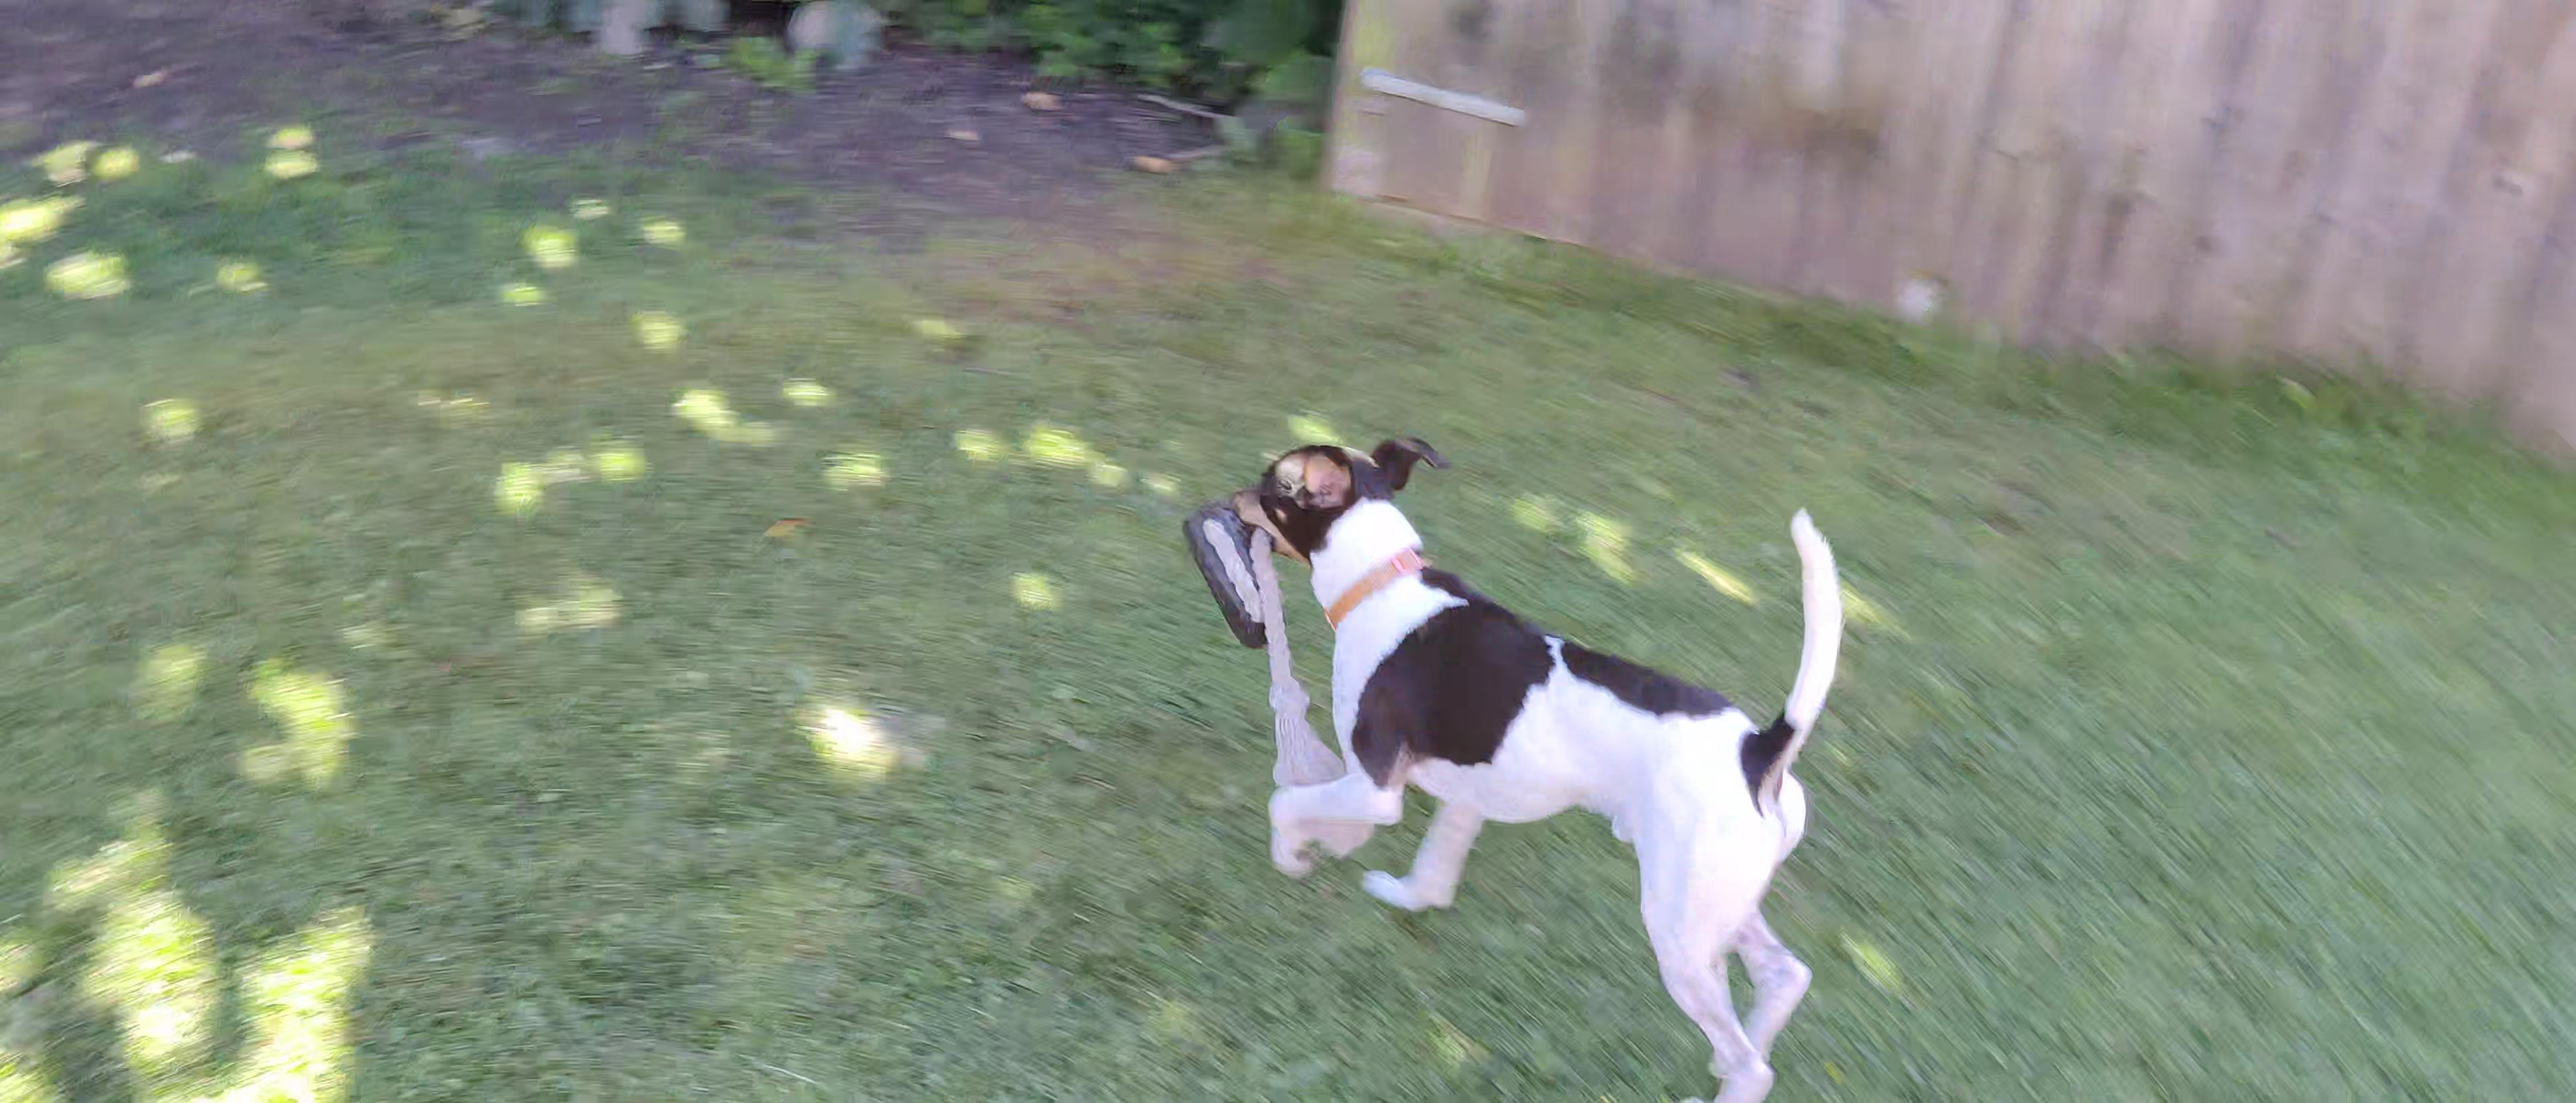Dog: (1226, 431, 1858, 1103)
